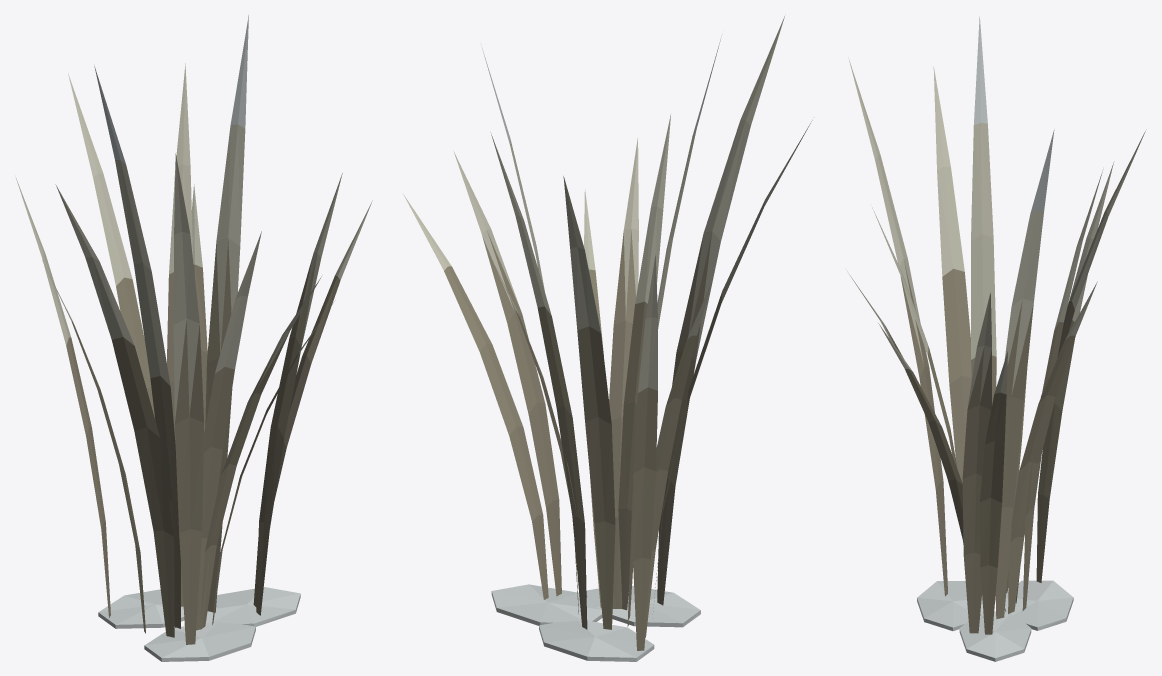
Rendered from grass_tuft_e_winter.glb.
The picture shows the model from 3 angles, left to right: view 1: azimuth 30°, elevation 25°; view 2: azimuth 150°, elevation 25°; view 3: azimuth 270°, elevation 25°; orthographic projection. The views are drawn at different scales.
Parts seen in each view (by area): view 1: geometry; view 2: geometry; view 3: geometry.
Boxes of the visible parts, x1,y1,x2,y2 form: geometry: (15,15,372,661); geometry: (403,16,812,661); geometry: (847,16,1146,661).
Size of the model in its own units: 0.284 by 0.45 by 0.2248.
